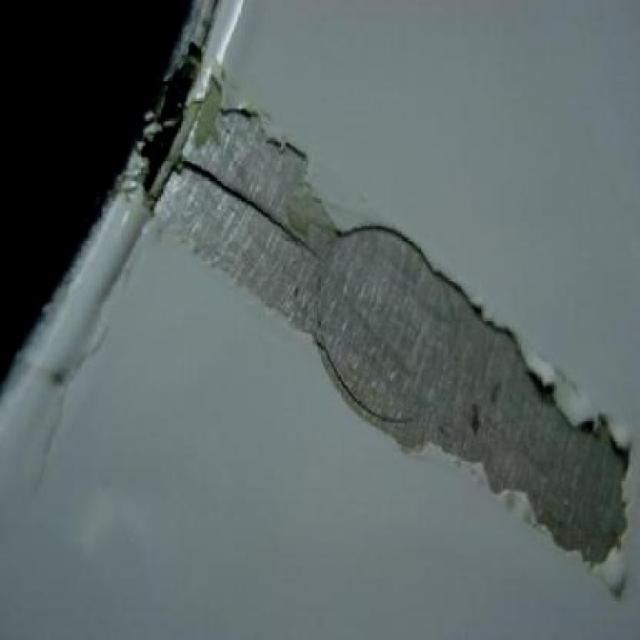crack: (250, 194, 315, 254), (180, 154, 248, 194)
